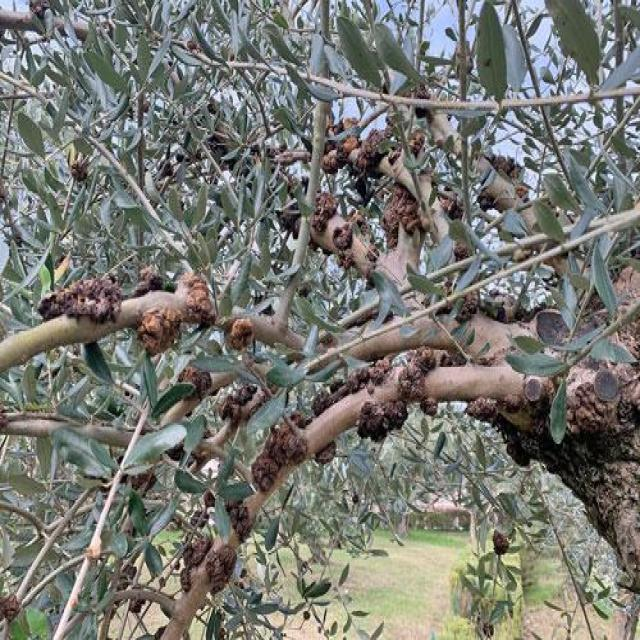Tuberculosis: (201, 415, 306, 592), (306, 348, 451, 456), (40, 266, 215, 353), (311, 191, 376, 280), (321, 126, 408, 181), (381, 183, 428, 247), (179, 531, 212, 592), (220, 382, 261, 430), (177, 360, 215, 399), (225, 316, 256, 350), (410, 128, 424, 159)
